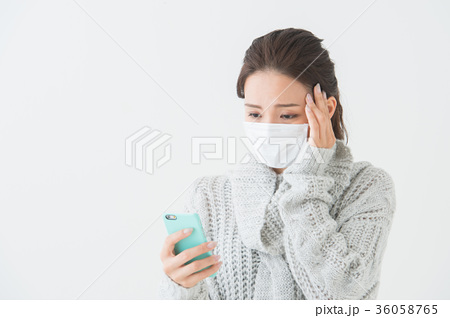mask: (238, 117, 320, 172)
